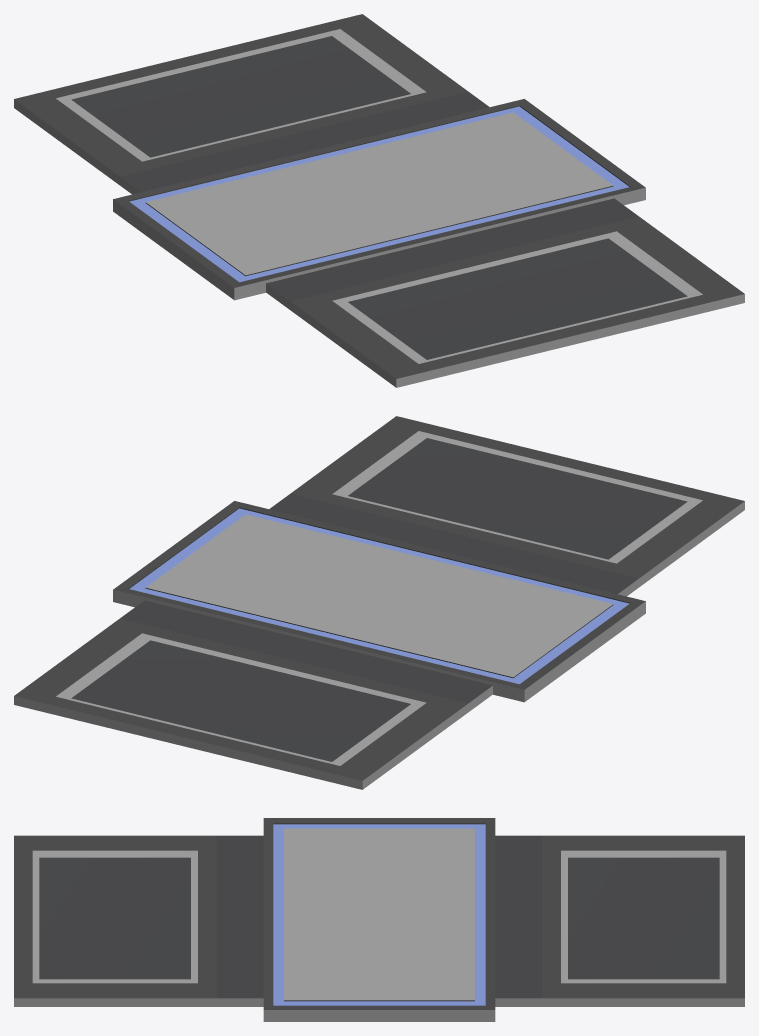
The model's file is ROOM Factory2.fbx.
The picture shows the model from 3 angles, top to bottom: view 1: azimuth 30°, elevation 25°; view 2: azimuth 150°, elevation 25°; view 3: azimuth 270°, elevation 25°; orthographic projection. The views are drawn at different scales.
Visible parts, largest first — view 1: room6_drone_building_2; view 2: room6_drone_building_2; view 3: room6_drone_building_2.
Part boxes in pixels (<box>): room6_drone_building_2: <box>14,14,744,387</box>; room6_drone_building_2: <box>14,416,744,789</box>; room6_drone_building_2: <box>14,818,744,1021</box>.
Bounding box in the file's own units: 722 × 20.86 × 1162.
